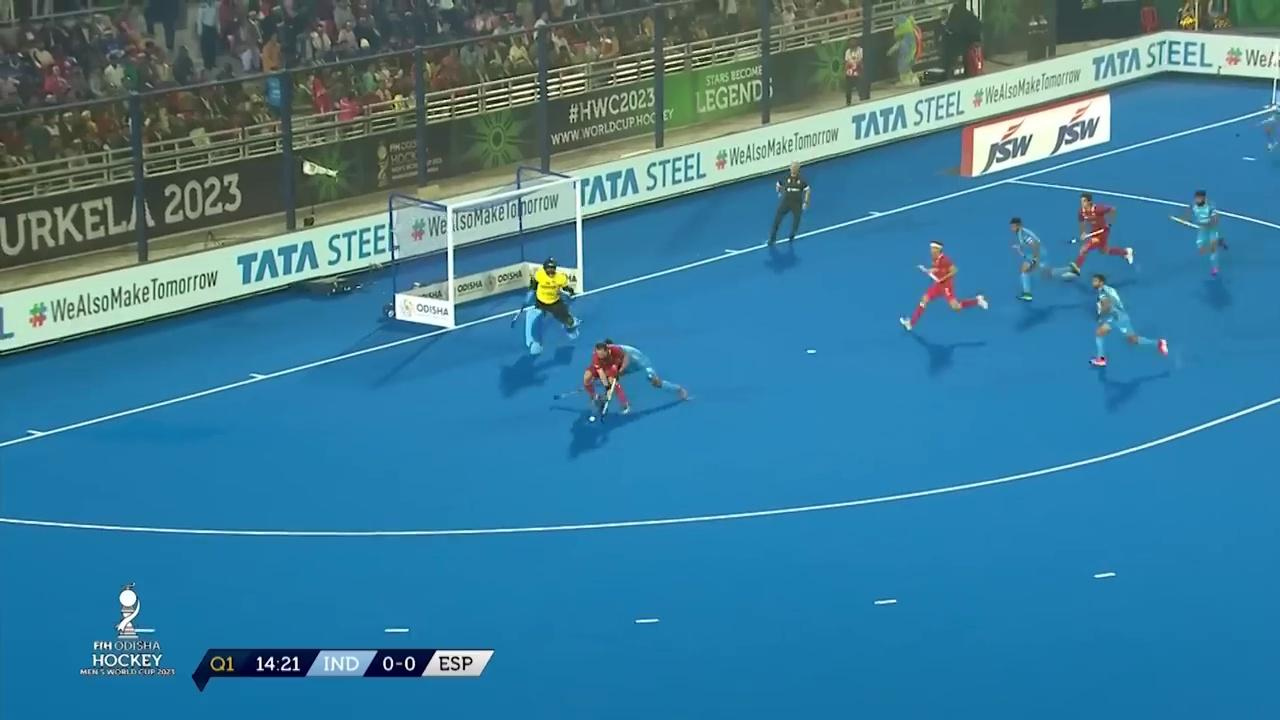ball: (585, 411, 600, 430)
